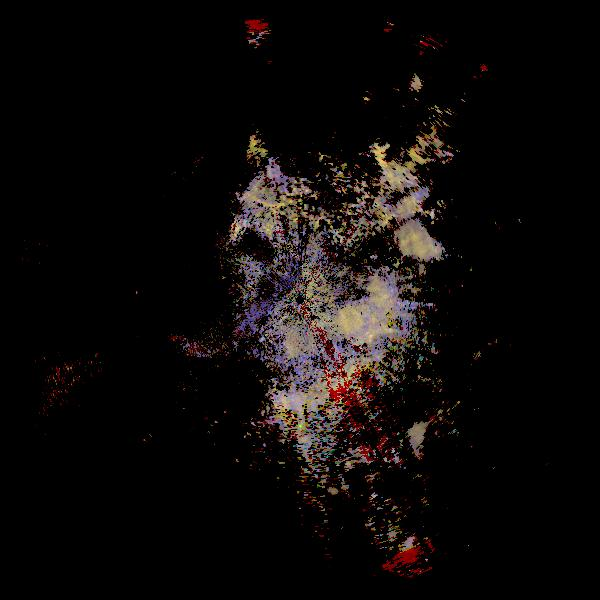roost: (384, 171, 483, 270), (403, 402, 490, 489)
